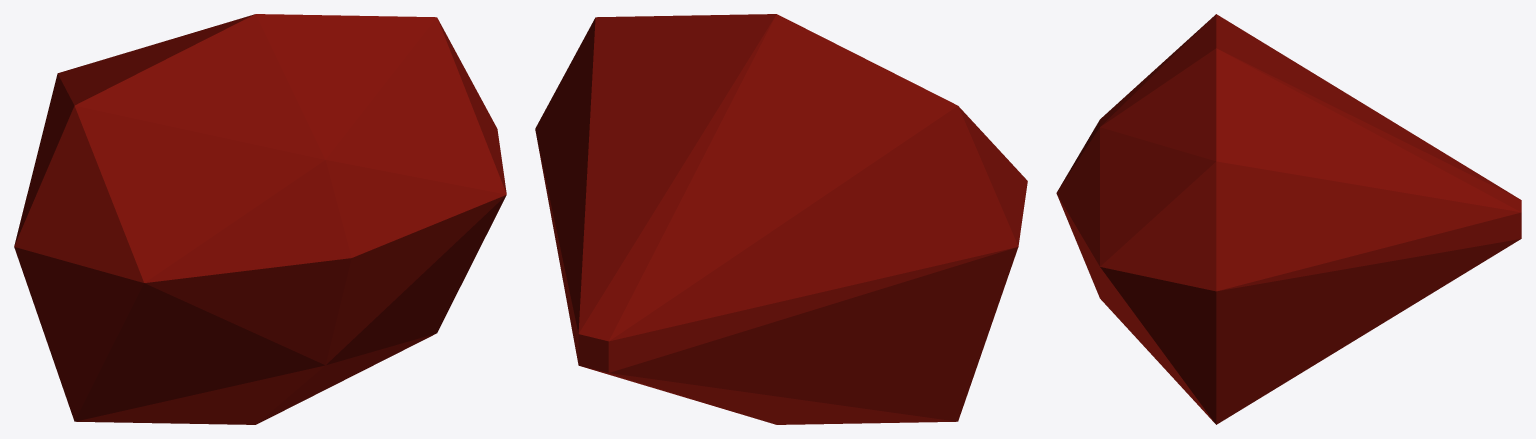
File: model_3154_spotanim.obj
3 renders of one model, left to right at view 1: azimuth 30°, elevation 25°; view 2: azimuth 150°, elevation 25°; view 3: azimuth 270°, elevation 25°, orthographic. The views are drawn at different scales.
Parts seen in each view (by area): view 1: 3154; view 2: 3154; view 3: 3154.
Part boxes in pixels (box(x1,y1,x2,y2)): 3154: box(14, 14, 506, 424); 3154: box(535, 14, 1027, 424); 3154: box(1056, 14, 1521, 424).
Size of the model in its own units: 256 by 208 by 256.
